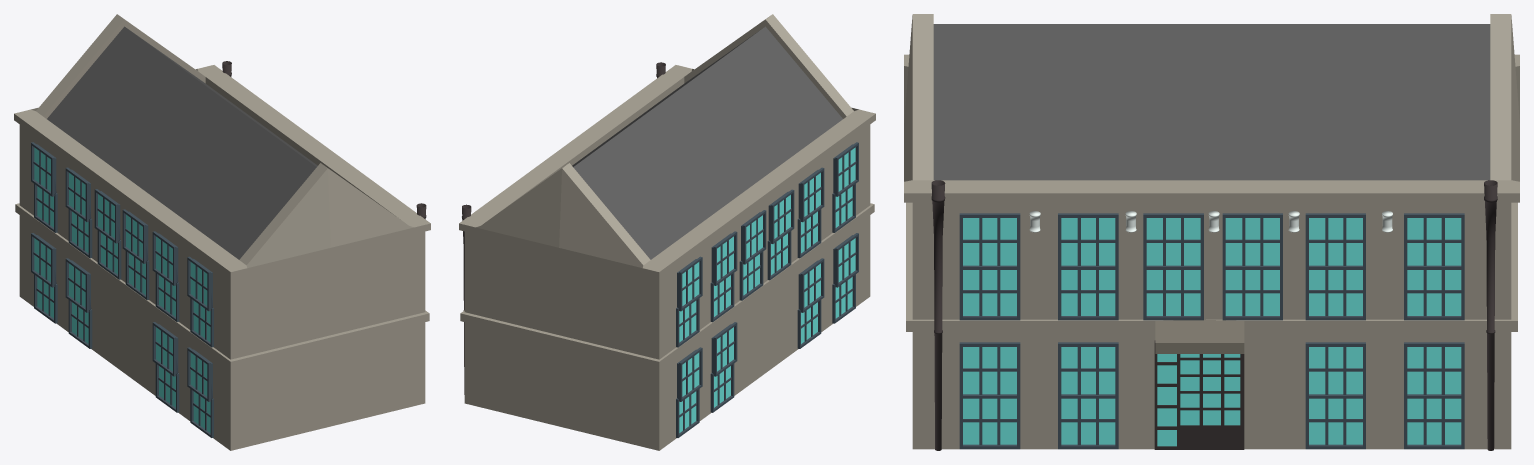
Rendered from House9.fbx.
3 views of the same model, side by side, from view 1: azimuth 30°, elevation 25°; view 2: azimuth 150°, elevation 25°; view 3: azimuth 270°, elevation 25° (orthographic). The views are drawn at different scales.
Parts seen in each view (by area): view 1: Cube.009; view 2: Cube.009; view 3: Cube.009.
Part boxes in pixels (x1=…): Cube.009: x1=14, y1=14, x2=430, y2=450; Cube.009: x1=459, y1=14, x2=875, y2=450; Cube.009: x1=904, y1=14, x2=1519, y2=450.
Size of the model in its own units: 647 by 685 by 1039.
